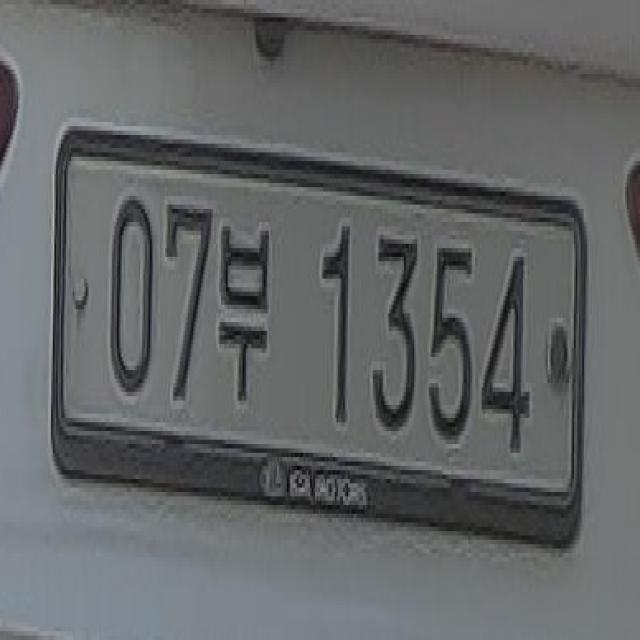plat: (48, 120, 588, 547)
